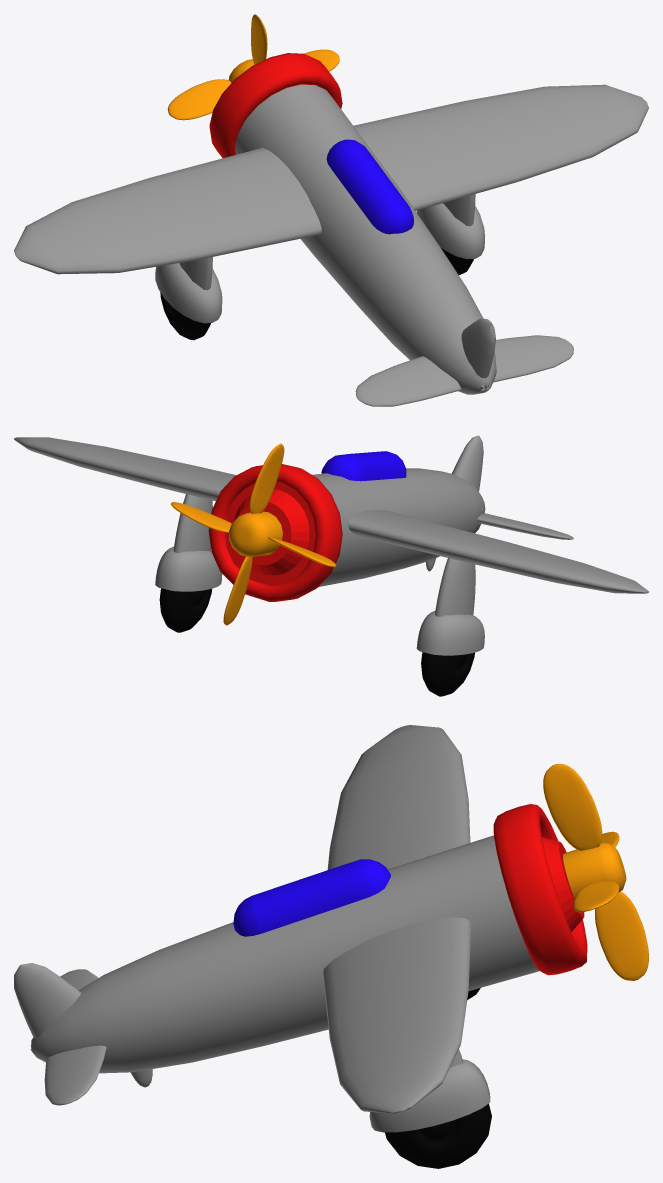
3 renders of one model, top to bottom at view 1: azimuth 30°, elevation 25°; view 2: azimuth 150°, elevation 25°; view 3: azimuth 270°, elevation 25°, orthographic. The views are drawn at different scales.
Visible parts, largest first — view 1: Object005; view 2: Object005; view 3: Object005.
Part boxes in pixels (x1=…): Object005: x1=14, y1=14, x2=648, y2=406; Object005: x1=14, y1=435, x2=648, y2=696; Object005: x1=14, y1=725, x2=648, y2=1168.
Size of the model in its own units: 71.55 by 27.68 by 50.08.
